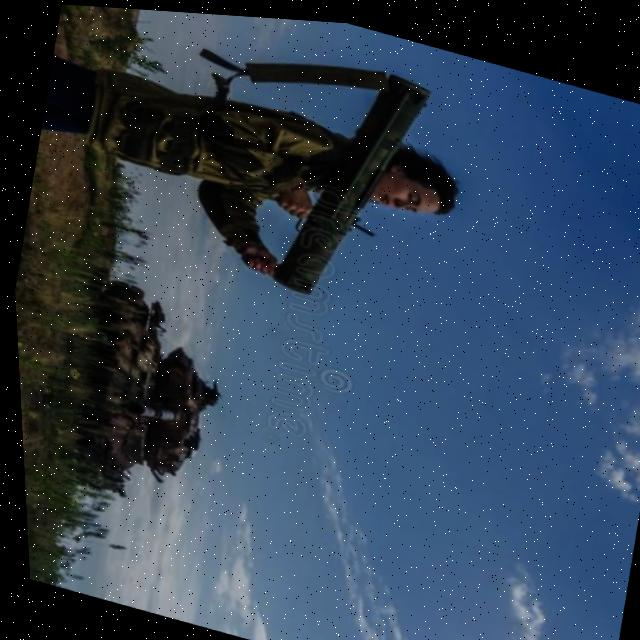rocket: (259, 39, 451, 319)
